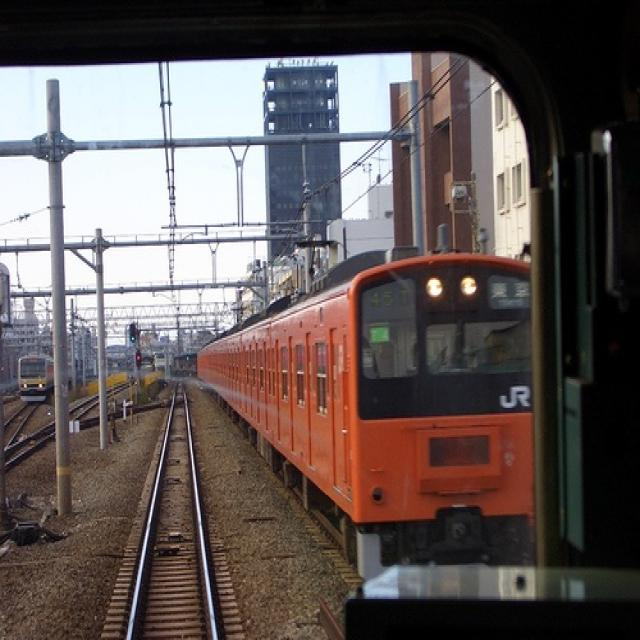train: (196, 253, 536, 582), (18, 355, 50, 404)
